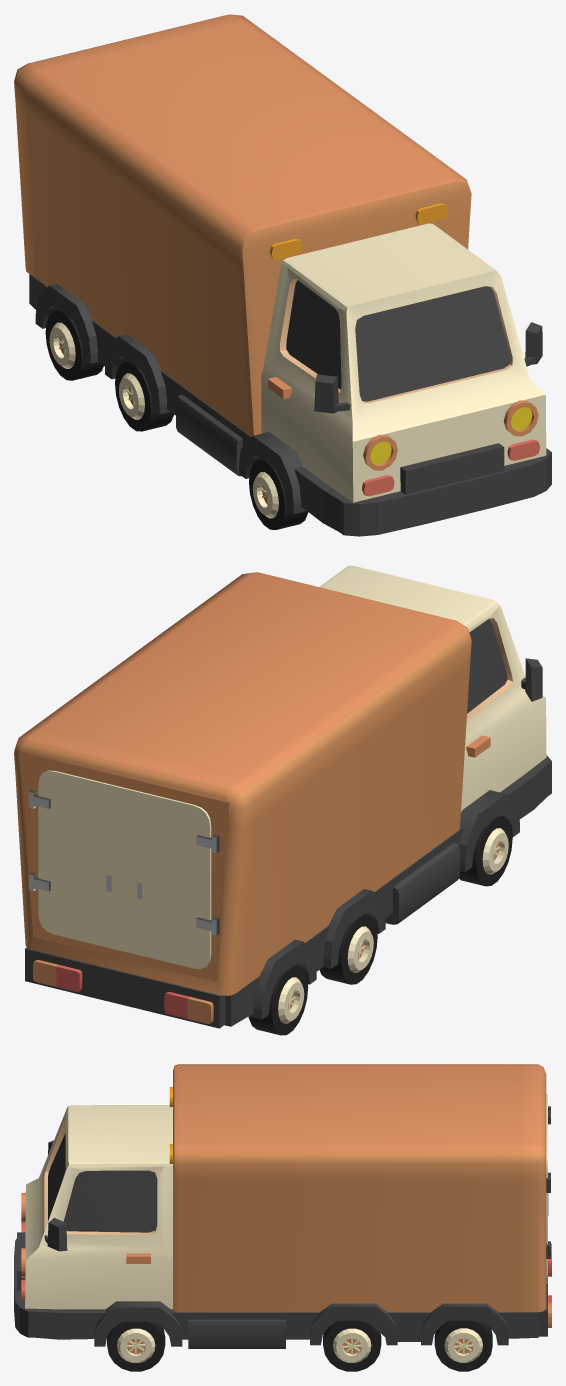
Rendered from Brown_Big_Truck.fbx.
The picture shows the model from 3 angles, top to bottom: view 1: azimuth 30°, elevation 25°; view 2: azimuth 150°, elevation 25°; view 3: azimuth 270°, elevation 25°; orthographic projection. The views are drawn at different scales.
Visible parts, largest first — view 1: Brown_Big_Truck, Brown_Big_Truck2, Brown_Big_Truck3, Bro2n_Big_Truck_Wheel; view 2: Brown_Big_Truck, Back_Right_Door001, Back_Left_Door001, Brown_Big_Truck2, Brown_Big_Truck3, Bro2n_Big_Truck_Wheel; view 3: Brown_Big_Truck, Brown_Big_Truck3, Brown_Big_Truck2, Bro2n_Big_Truck_Wheel, Back_Left_Door001.
Part boxes in pixels (x1=…): Brown_Big_Truck: x1=14, y1=14, x2=551, y2=536; Brown_Big_Truck2: x1=115, y1=360, x2=173, y2=431; Brown_Big_Truck3: x1=45, y1=310, x2=103, y2=380; Bro2n_Big_Truck_Wheel: x1=249, y1=459, x2=308, y2=529; Brown_Big_Truck: x1=14, y1=565, x2=551, y2=1028; Back_Right_Door001: x1=124, y1=788, x2=219, y2=968; Back_Left_Door001: x1=28, y1=770, x2=124, y2=951; Brown_Big_Truck2: x1=319, y1=913, x2=377, y2=984; Brown_Big_Truck3: x1=248, y1=964, x2=308, y2=1035; Bro2n_Big_Truck_Wheel: x1=459, y1=815, x2=512, y2=886; Brown_Big_Truck: x1=14, y1=1064, x2=551, y2=1348; Brown_Big_Truck3: x1=434, y1=1320, x2=492, y2=1371; Brown_Big_Truck2: x1=323, y1=1320, x2=381, y2=1371; Bro2n_Big_Truck_Wheel: x1=107, y1=1321, x2=165, y2=1371; Back_Left_Door001: x1=546, y1=1123, x2=550, y2=1283.
Bounding box in the file's own units: 269 × 305 × 665.
